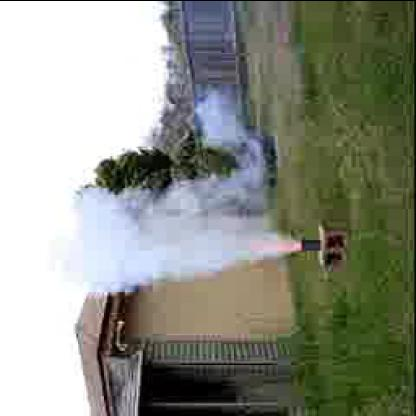Smoke: (68, 194, 278, 286)
